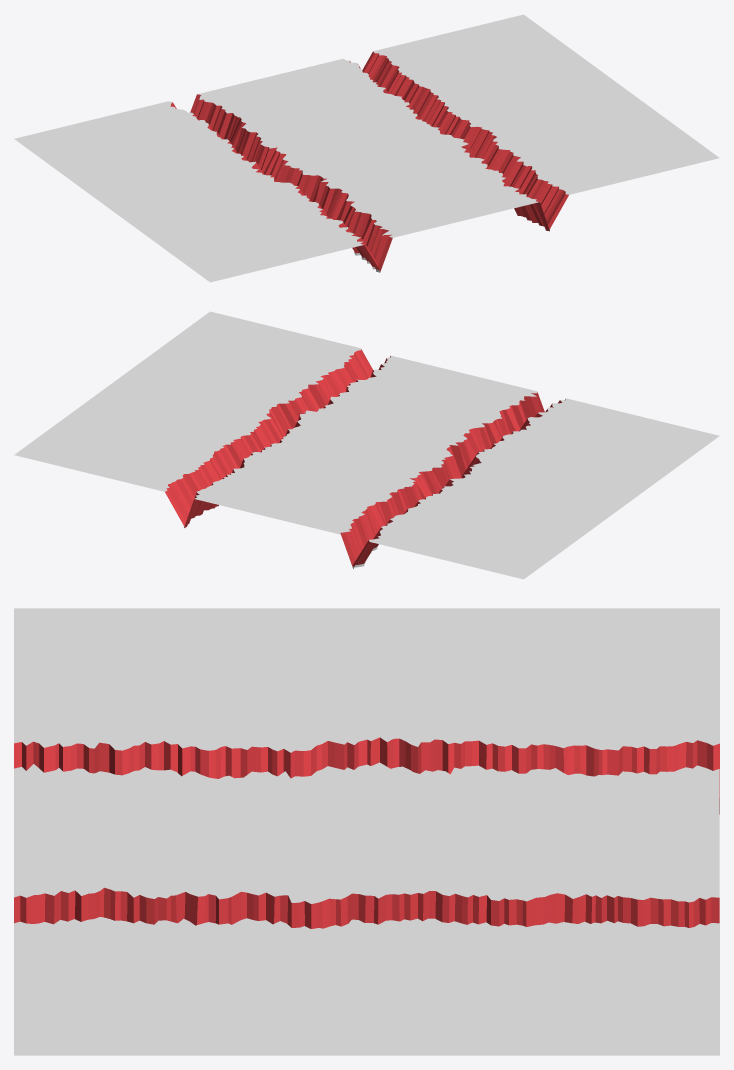
The model's file is icpupt3 1.fbx.
The picture shows the model from 3 angles, top to bottom: view 1: azimuth 30°, elevation 25°; view 2: azimuth 150°, elevation 25°; view 3: azimuth 270°, elevation 25°; orthographic projection. The views are drawn at different scales.
Parts seen in each view (by area): view 1: L, Base, R; view 2: L, Base, R; view 3: R, Base, L.
Boxes of the visible parts, x1,y1,x2,y2 form: L: (362,14,719,230); Base: (190,58,549,272); R: (14,101,379,282); L: (14,311,372,527); Base: (184,355,544,568); R: (352,398,719,579); R: (14,608,719,797); Base: (14,762,719,928); L: (14,917,719,1055).
Size of the model in its own units: 8400 by 500 by 5600.
